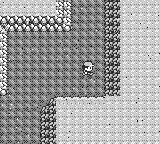main: (82, 61, 95, 76)
no-caminable: (1, 0, 71, 96), (104, 0, 120, 96), (40, 97, 56, 143), (56, 93, 105, 102)
